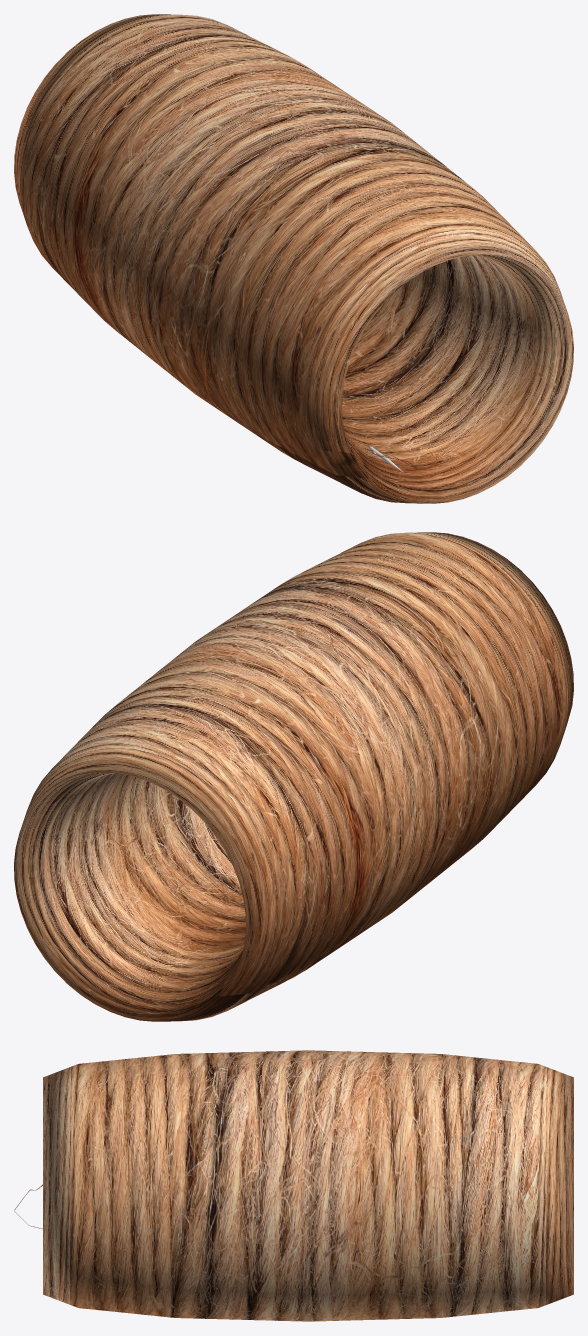
File: String.fbx
The picture shows the model from 3 angles, top to bottom: view 1: azimuth 30°, elevation 25°; view 2: azimuth 150°, elevation 25°; view 3: azimuth 270°, elevation 25°; orthographic projection. The views are drawn at different scales.
Parts seen in each view (by area): view 1: Yarn; view 2: Yarn; view 3: Yarn.
Part boxes in pixels (x1=…): Yarn: x1=14, y1=14, x2=573, y2=503; Yarn: x1=14, y1=532, x2=573, y2=1021; Yarn: x1=14, y1=1050, x2=573, y2=1321.
Bounding box in the file's own units: 23.7 × 23.7 × 48.97.
2 materials, 1 textured.
